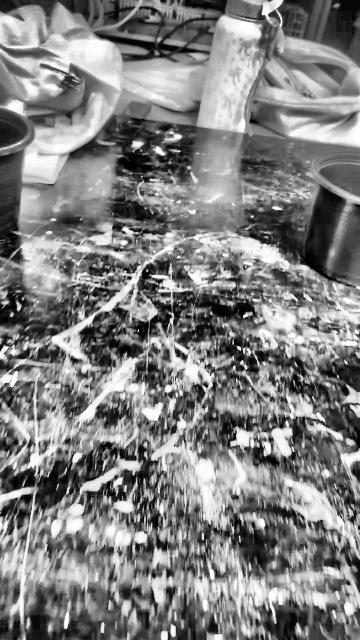pot: (303, 155, 360, 287), (0, 107, 33, 239)
